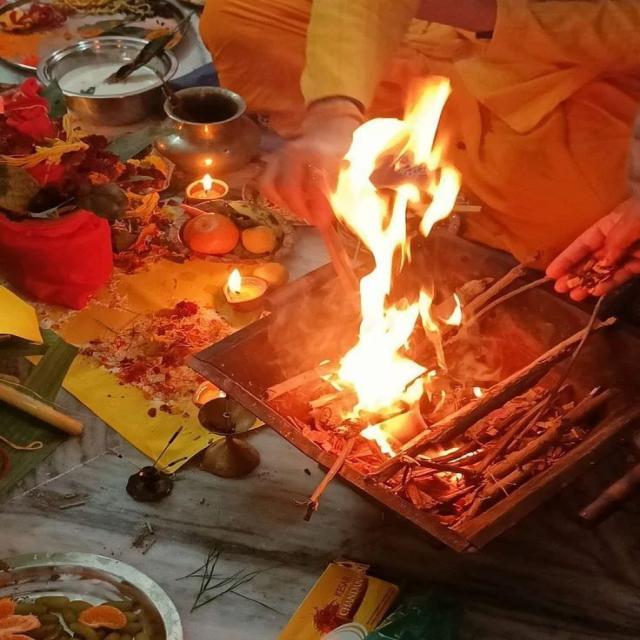fire: (330, 76, 466, 452)
